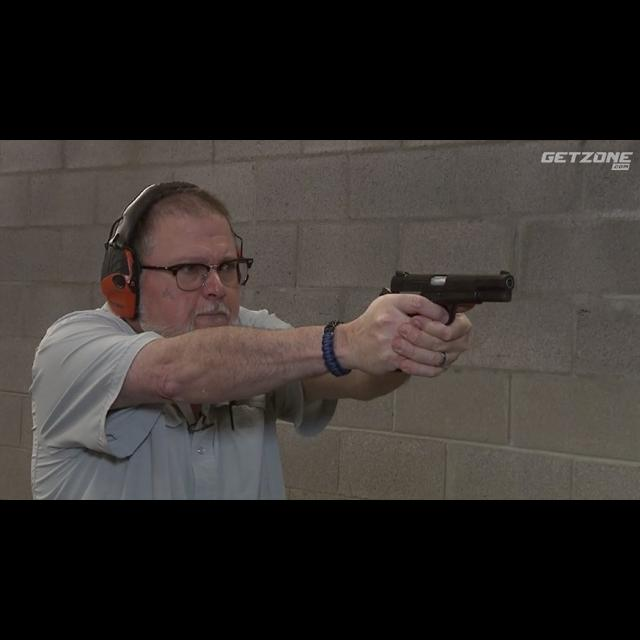handgun: (374, 266, 518, 330)
